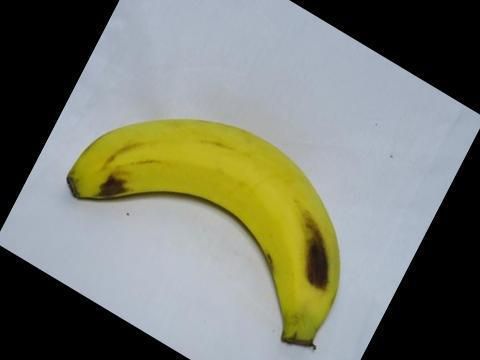freshripe: (56, 101, 360, 356)
